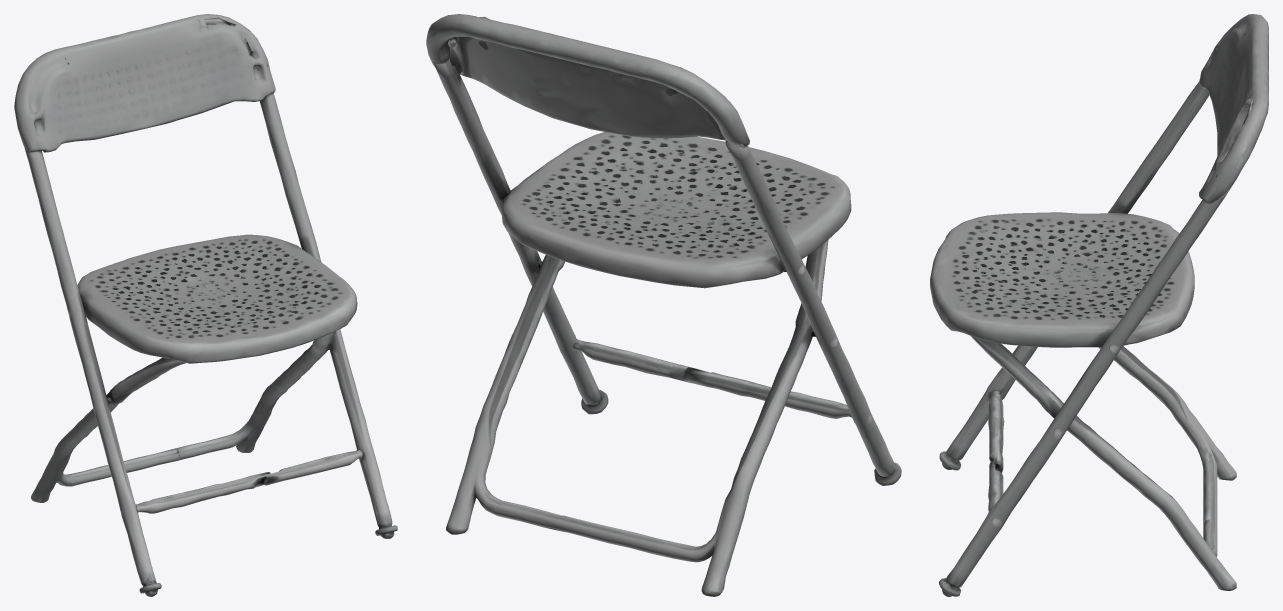
Rendered from Chair_Big_Alex_Shark_0320032159_texture.glb.
The picture shows the model from 3 angles, left to right: view 1: azimuth 30°, elevation 25°; view 2: azimuth 150°, elevation 25°; view 3: azimuth 270°, elevation 25°; orthographic projection. The views are drawn at different scales.
Visible parts, largest first — view 1: Mesh_0.003; view 2: Mesh_0.003; view 3: Mesh_0.003.
Part boxes in pixels (x1,y1,x2,y2): Mesh_0.003: (14, 14, 397, 596); Mesh_0.003: (426, 14, 901, 596); Mesh_0.003: (930, 14, 1268, 596).
Bounding box in the file's own units: 0.5652 × 0.9144 × 0.5914.
1 material, 1 textured.
